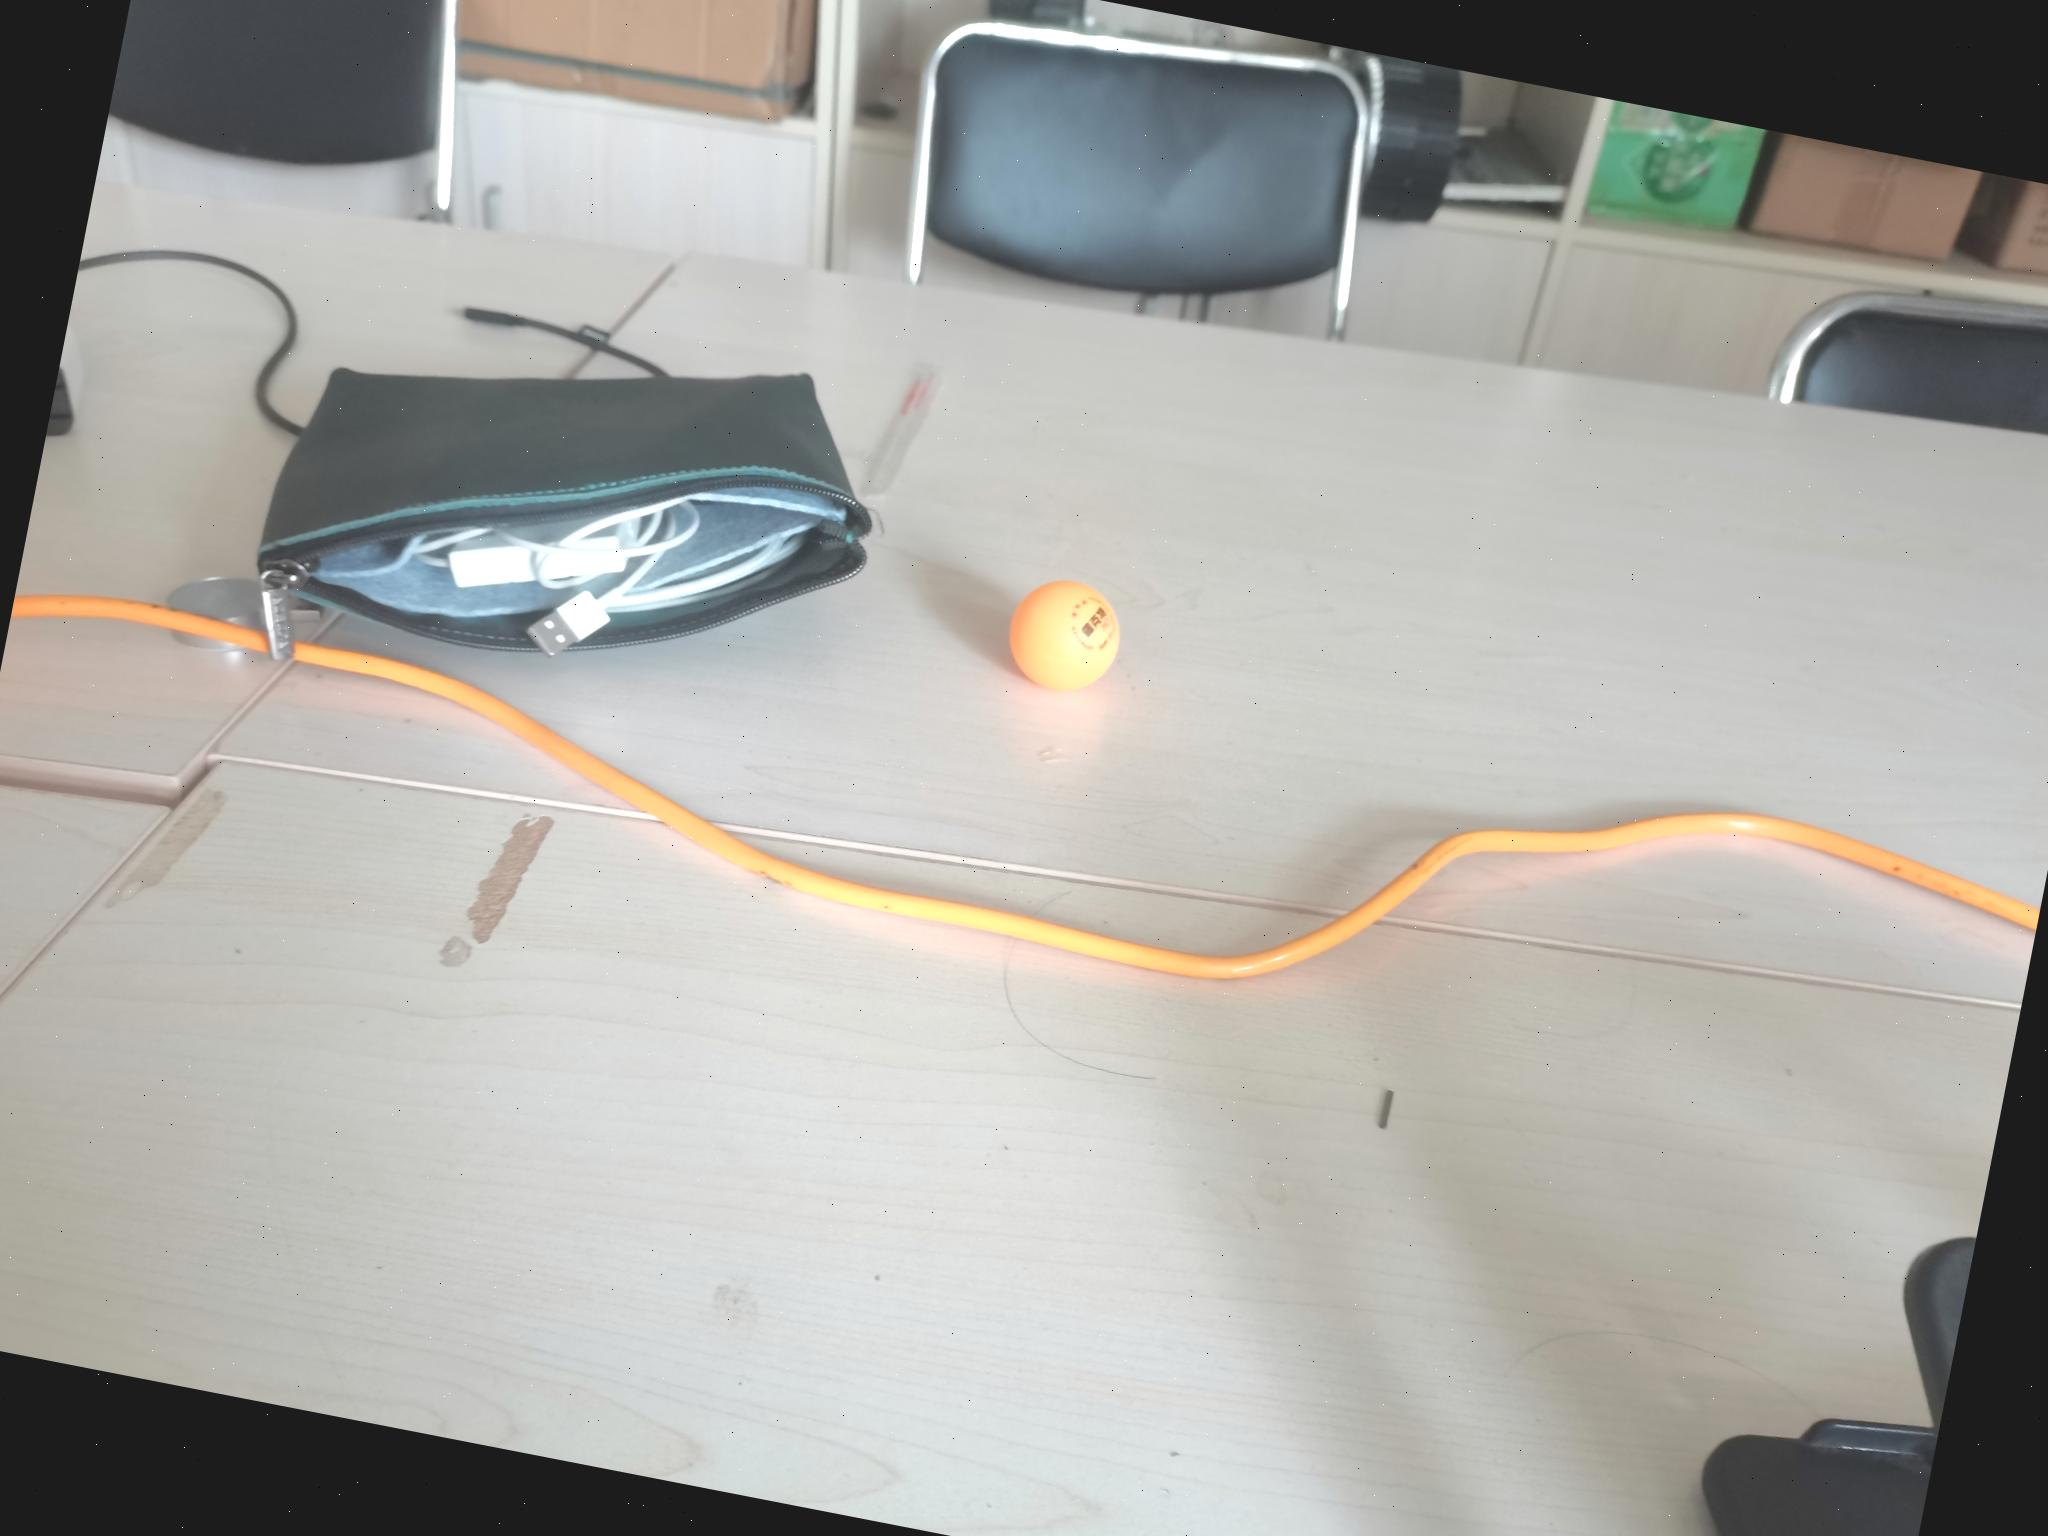ball: (998, 568, 1130, 703)
